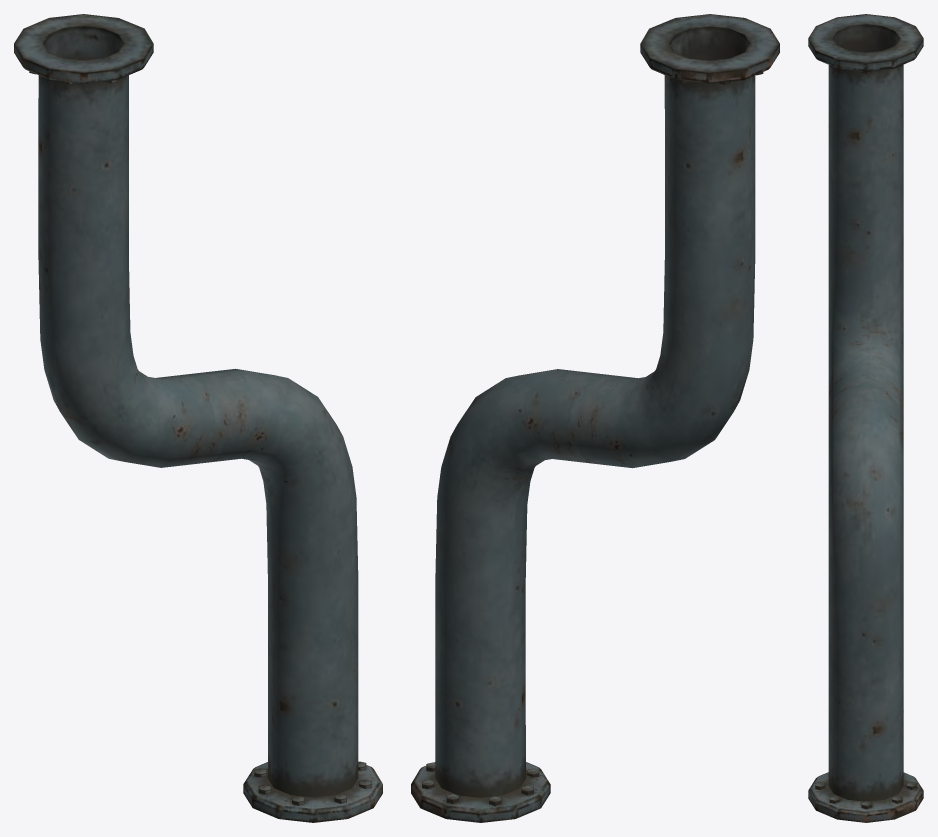
Rendered from modular_industrial_pipes_01-bend.glb.
3 views of the same model, side by side, from view 1: azimuth 30°, elevation 25°; view 2: azimuth 150°, elevation 25°; view 3: azimuth 270°, elevation 25° (orthographic). The views are drawn at different scales.
Visible parts, largest first — view 1: modular_industrial_pipes_01_pipe03; view 2: modular_industrial_pipes_01_pipe03; view 3: modular_industrial_pipes_01_pipe03.
Boxes of the visible parts, x1,y1,x2,y2 form: modular_industrial_pipes_01_pipe03: (14, 14, 382, 822); modular_industrial_pipes_01_pipe03: (411, 14, 779, 822); modular_industrial_pipes_01_pipe03: (808, 14, 923, 822).
Bounding box in the file's own units: 0.5986 × 1.31 × 0.2064.
1 material, 1 textured.
